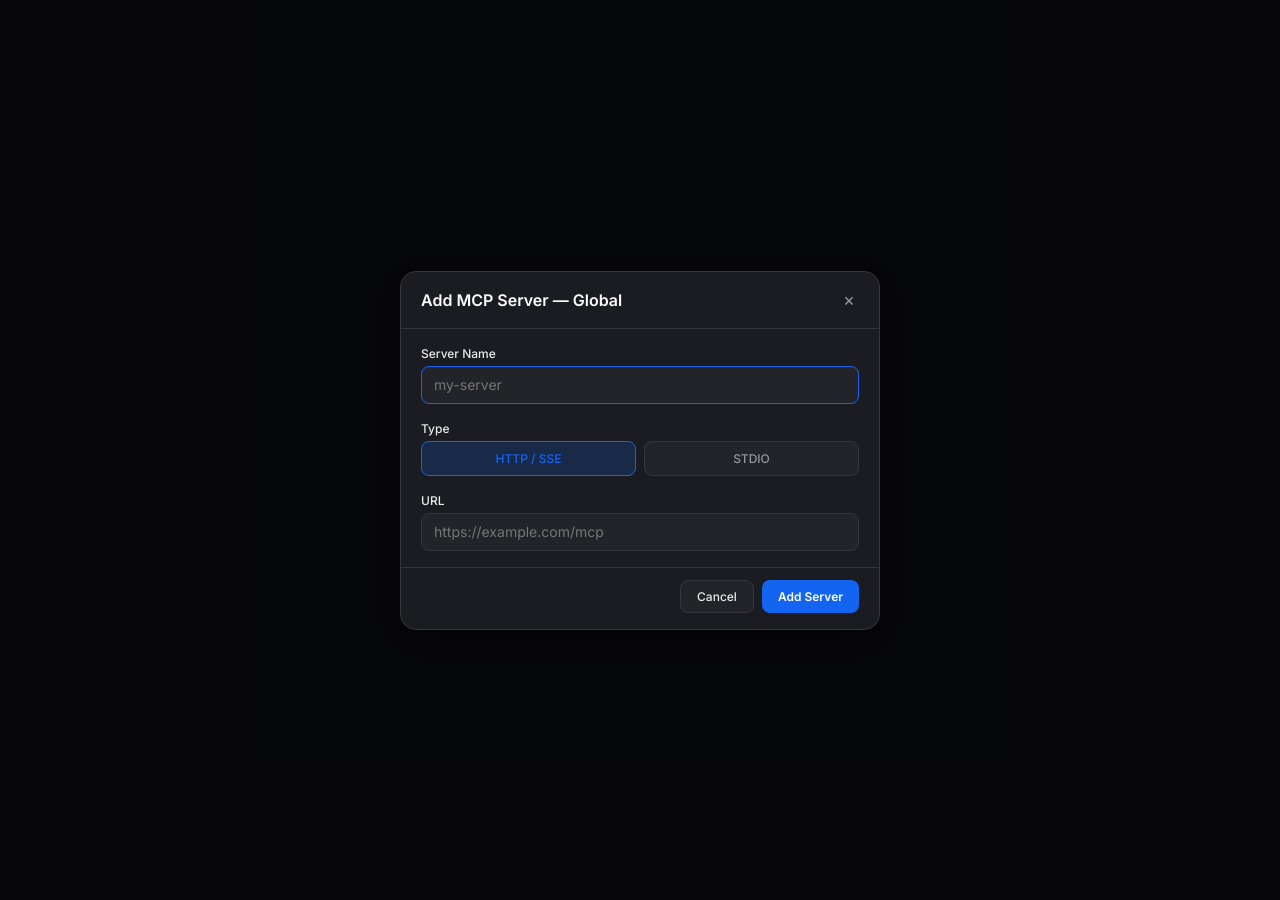
it: AddServerForm › switches to STDIO fields when STDIO button is clicked
Click the button "STDIO".
click(752, 458)  # box [644,440,859,476]
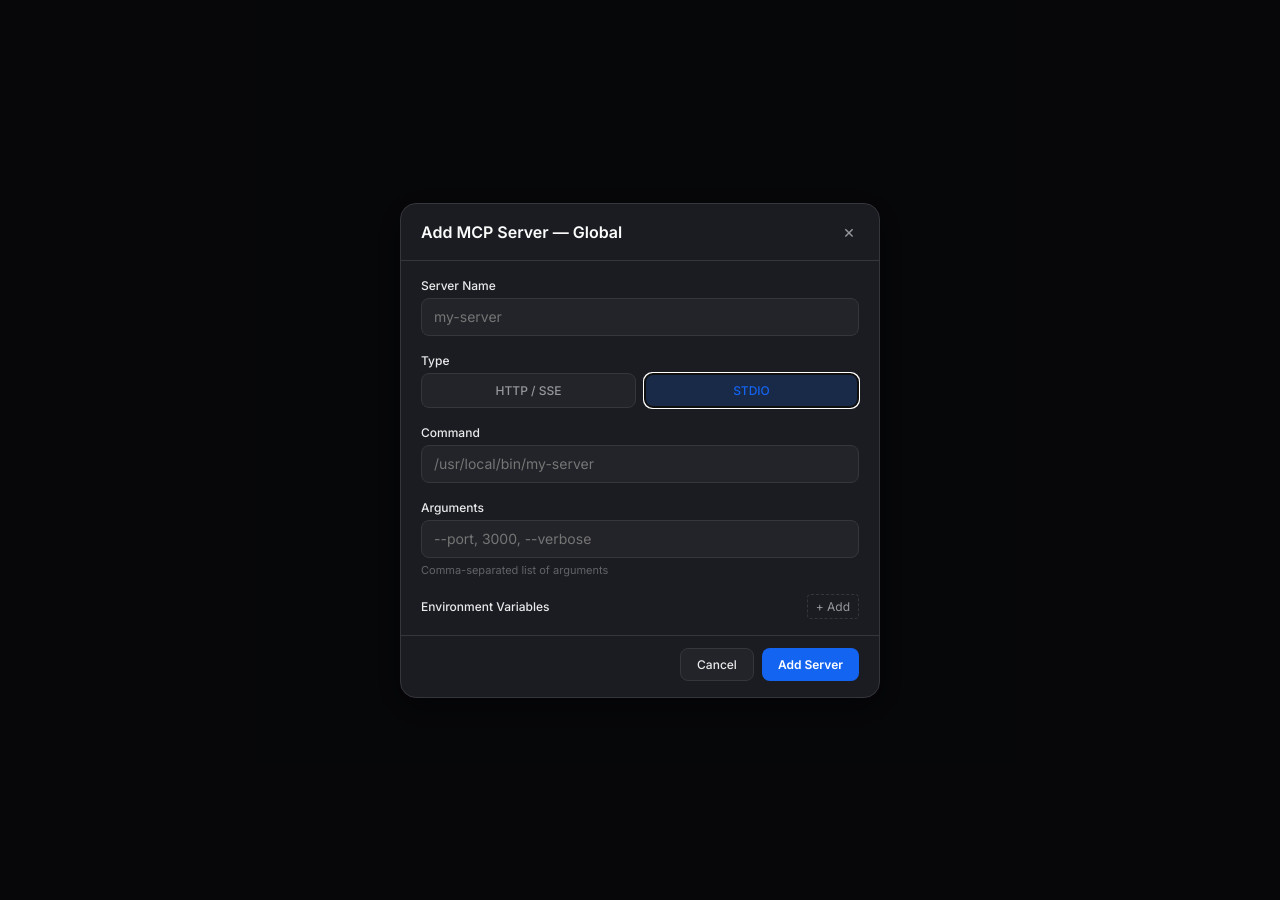
Expected: the field with placeholder "https://example.com/mcp" is not shown
Expected: the field with placeholder "/usr/local/bin/my-server" is shown, [421,444,859,482]
Expected: the field with placeholder "--port, 3000, --verbose" is shown, [421,520,859,558]
